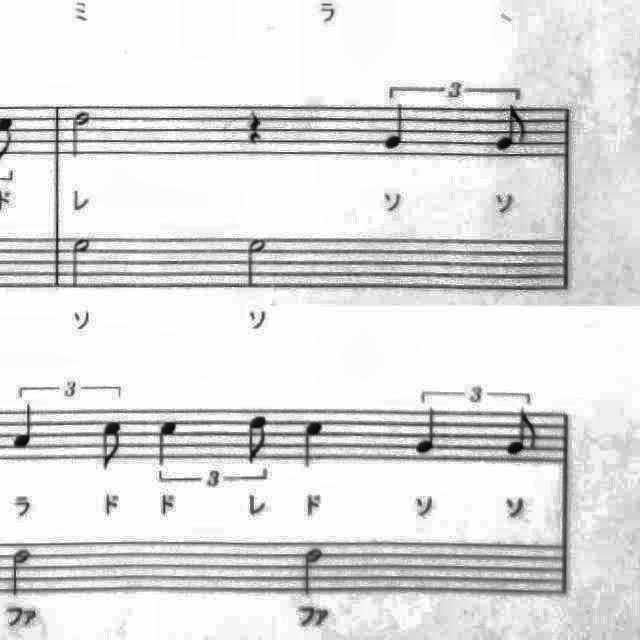Eighth-note: (491, 100, 534, 156), (94, 416, 130, 478), (502, 406, 542, 460), (242, 408, 278, 467)
Half-note: (238, 232, 276, 296), (65, 230, 99, 294), (296, 540, 332, 600), (2, 541, 38, 599), (66, 107, 96, 165)
Quarter-note: (408, 401, 450, 459), (295, 415, 333, 477), (376, 100, 414, 156), (152, 414, 186, 474), (8, 398, 44, 454)
Quarter-rest: (240, 102, 272, 152)
